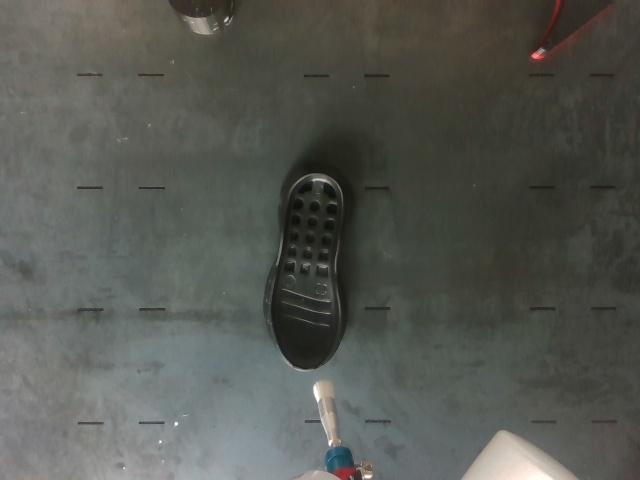shoes: (272, 174, 343, 369)
